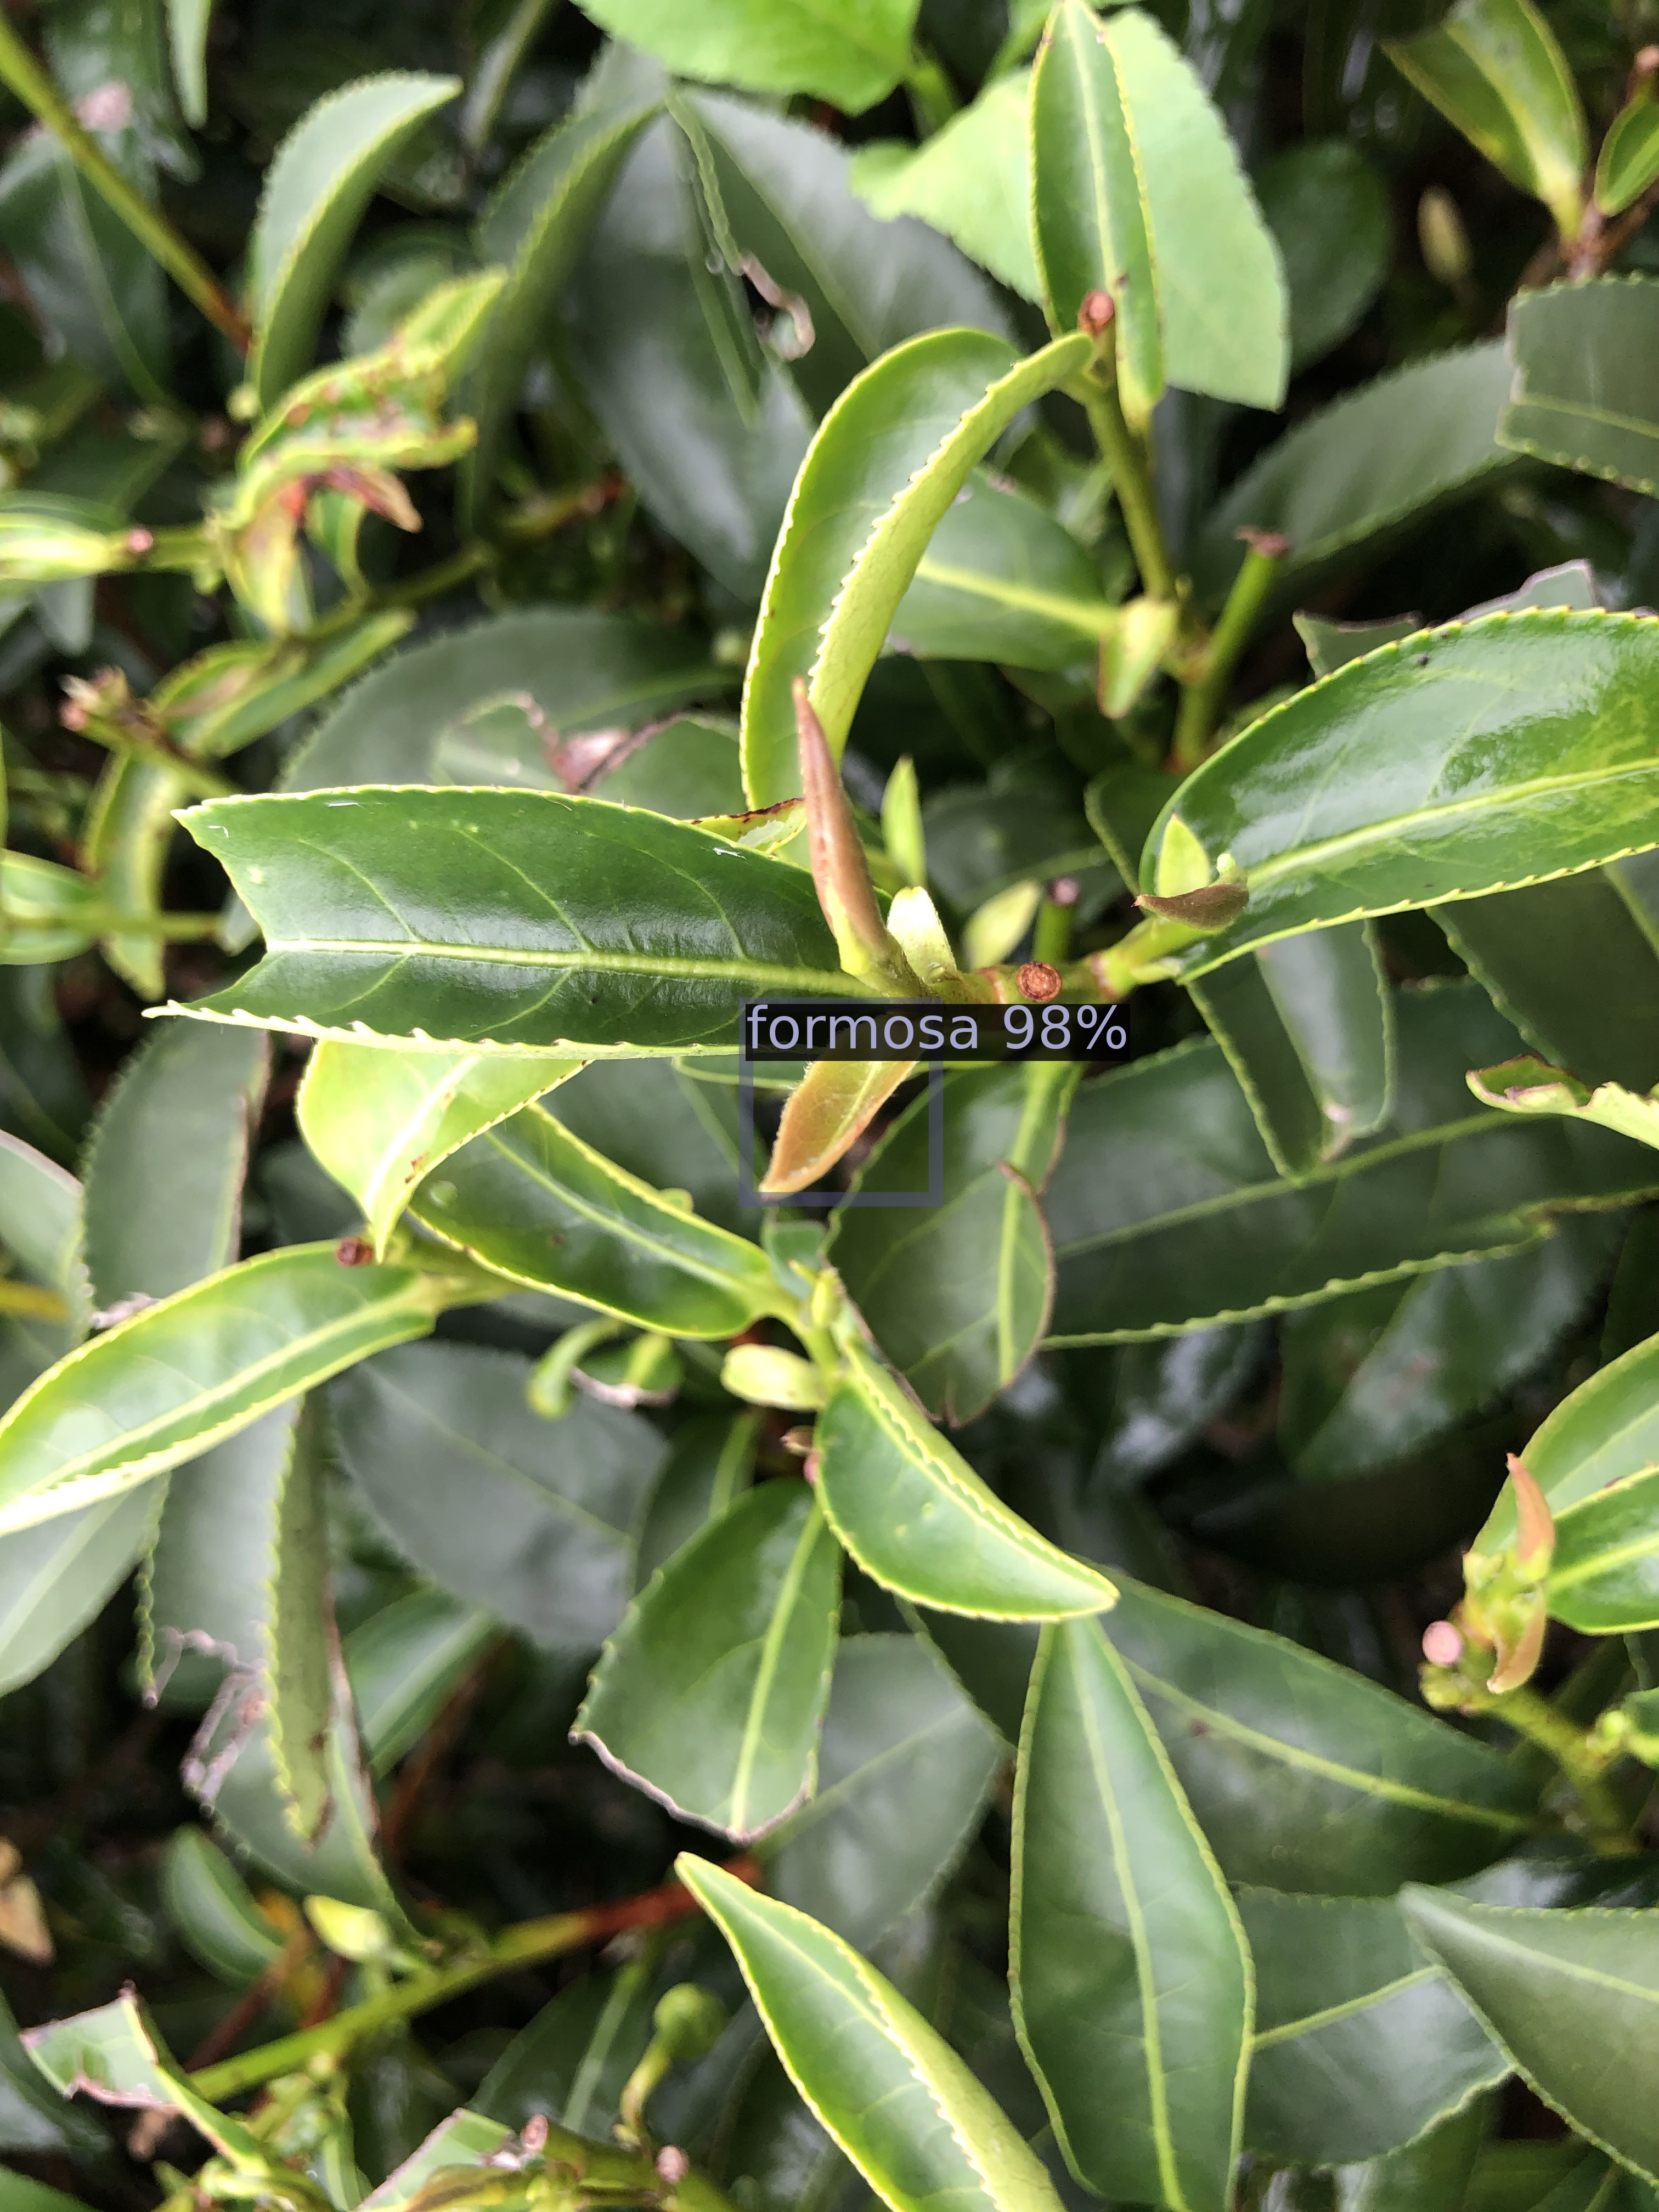formosa: (746, 1003, 936, 1198)
